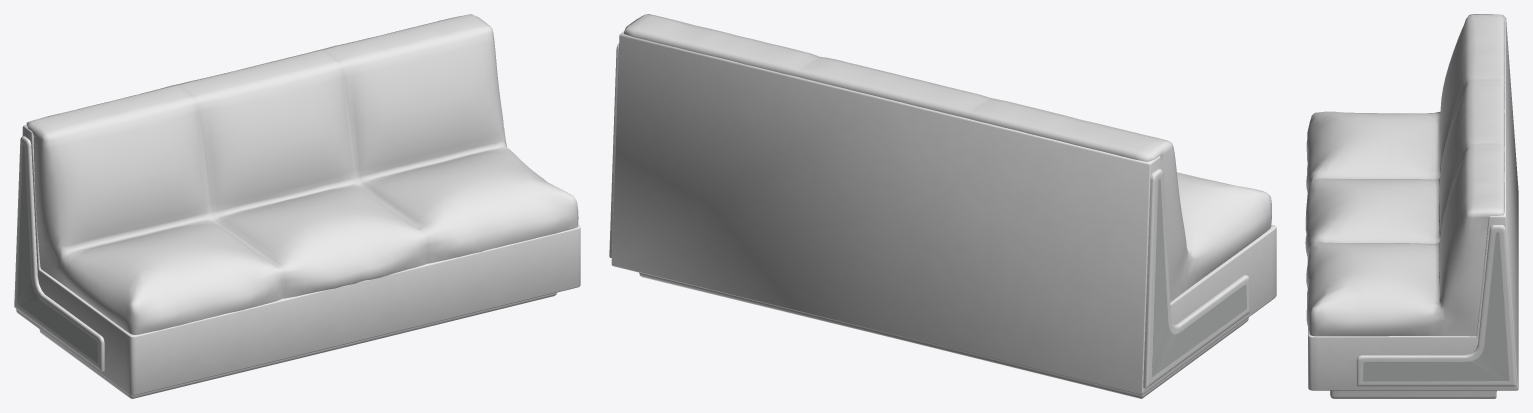
File: Sofa05_1.FBX
3 views of the same model, side by side, from view 1: azimuth 30°, elevation 25°; view 2: azimuth 150°, elevation 25°; view 3: azimuth 270°, elevation 25° (orthographic). The views are drawn at different scales.
Parts seen in each view (by area): view 1: Sofa05_1; view 2: Sofa05_1; view 3: Sofa05_1.
Boxes of the visible parts, x1,y1,x2,y2 form: Sofa05_1: (14, 14, 580, 398); Sofa05_1: (609, 14, 1276, 398); Sofa05_1: (1305, 14, 1518, 398).
Size of what is drawn, in the model's own units: 2.53 by 1.13 by 1.12.
